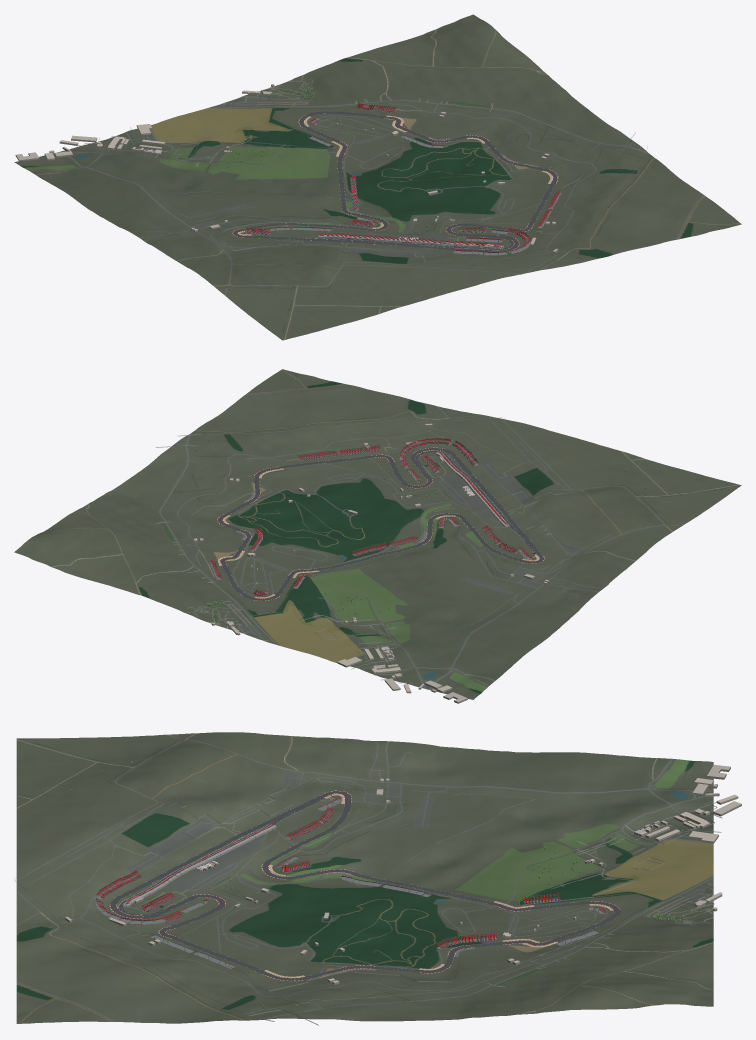
Rendered from hungaroring.glb.
3 views of the same model, one above another, from view 1: azimuth 30°, elevation 25°; view 2: azimuth 150°, elevation 25°; view 3: azimuth 270°, elevation 25° (orthographic). The views are drawn at different scales.
Parts seen in each view (by area): view 1: Hungary_DEM_Terrain_RealScale, FIA_Hungaroring_Centreline_15m, Hungaroring_2026_Current_Grandstands, Hungaroring_Current_OSM_Buildings, Hungaroring_OSM_Safety_Fences_And_Walls, Hungaroring_2026_36_Garage_Pit_Complex_Grandstand; view 2: Hungary_DEM_Terrain_RealScale, FIA_Hungaroring_Centreline_15m, Hungaroring_2026_Current_Grandstands, Hungaroring_Current_OSM_Buildings, Hungaroring_OSM_Safety_Fences_And_Walls; view 3: Hungary_DEM_Terrain_RealScale, FIA_Hungaroring_Centreline_15m, Hungaroring_2026_Current_Grandstands, Hungaroring_Current_OSM_Buildings, Hungaroring_OSM_Safety_Fences_And_Walls, Hungaroring_2026_36_Garage_Pit_Complex_Grandstand, Real_Red_White_Curbs, Hungaroring_FIA_Runoff_And_Gravel, FIA_Pit_Lane.
Part boxes in pixels (left/top/right/bottom): Hungary_DEM_Terrain_RealScale: left=14, top=14, right=741, bottom=340; FIA_Hungaroring_Centreline_15m: left=233, top=111, right=557, bottom=251; Hungaroring_2026_Current_Grandstands: left=244, top=103, right=561, bottom=255; Hungaroring_Current_OSM_Buildings: left=15, top=84, right=558, bottom=253; Hungaroring_OSM_Safety_Fences_And_Walls: left=62, top=80, right=647, bottom=274; Hungaroring_2026_36_Garage_Pit_Complex_Grandstand: left=318, top=233, right=503, bottom=248; Hungary_DEM_Terrain_RealScale: left=14, top=369, right=741, bottom=699; FIA_Hungaroring_Centreline_15m: left=218, top=448, right=544, bottom=600; Hungaroring_2026_Current_Grandstands: left=209, top=437, right=536, bottom=595; Hungaroring_Current_OSM_Buildings: left=193, top=423, right=548, bottom=703; Hungaroring_OSM_Safety_Fences_And_Walls: left=156, top=414, right=607, bottom=683; Hungary_DEM_Terrain_RealScale: left=16, top=732, right=713, bottom=1023; FIA_Hungaroring_Centreline_15m: left=110, top=791, right=620, bottom=980; Hungaroring_2026_Current_Grandstands: left=95, top=793, right=605, bottom=968; Hungaroring_Current_OSM_Buildings: left=65, top=764, right=741, bottom=984; Hungaroring_OSM_Safety_Fences_And_Walls: left=15, top=760, right=721, bottom=1025; Hungaroring_2026_36_Garage_Pit_Complex_Grandstand: left=123, top=823, right=276, bottom=907; Real_Red_White_Curbs: left=109, top=790, right=620, bottom=981; Hungaroring_FIA_Runoff_And_Gravel: left=264, top=793, right=613, bottom=978; FIA_Pit_Lane: left=118, top=798, right=323, bottom=915.
Bounding box in the file's own units: 1688 × 134 × 1744.
23 materials, 1 textured.
